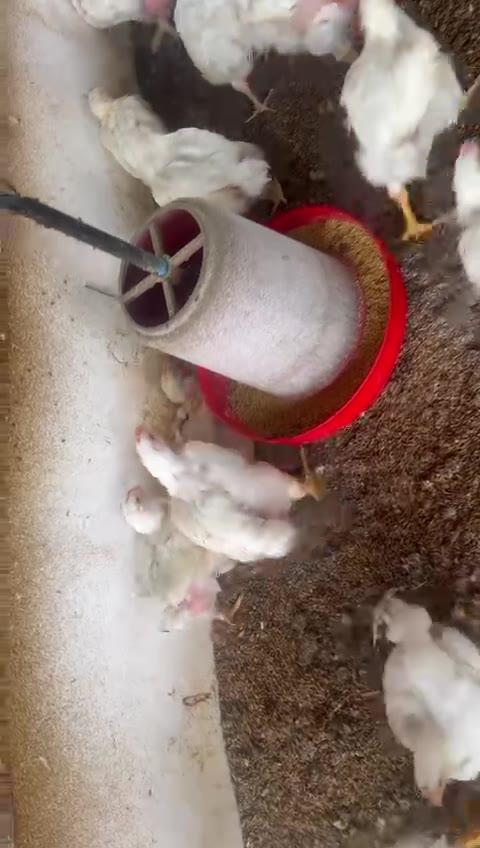AbNormal: (384, 597, 480, 808), (87, 84, 156, 156), (159, 359, 213, 450)
Normal: (340, 0, 474, 243), (130, 420, 322, 554), (119, 480, 242, 632), (119, 110, 270, 213), (175, 0, 266, 107), (249, 0, 359, 65), (70, 0, 174, 48)
